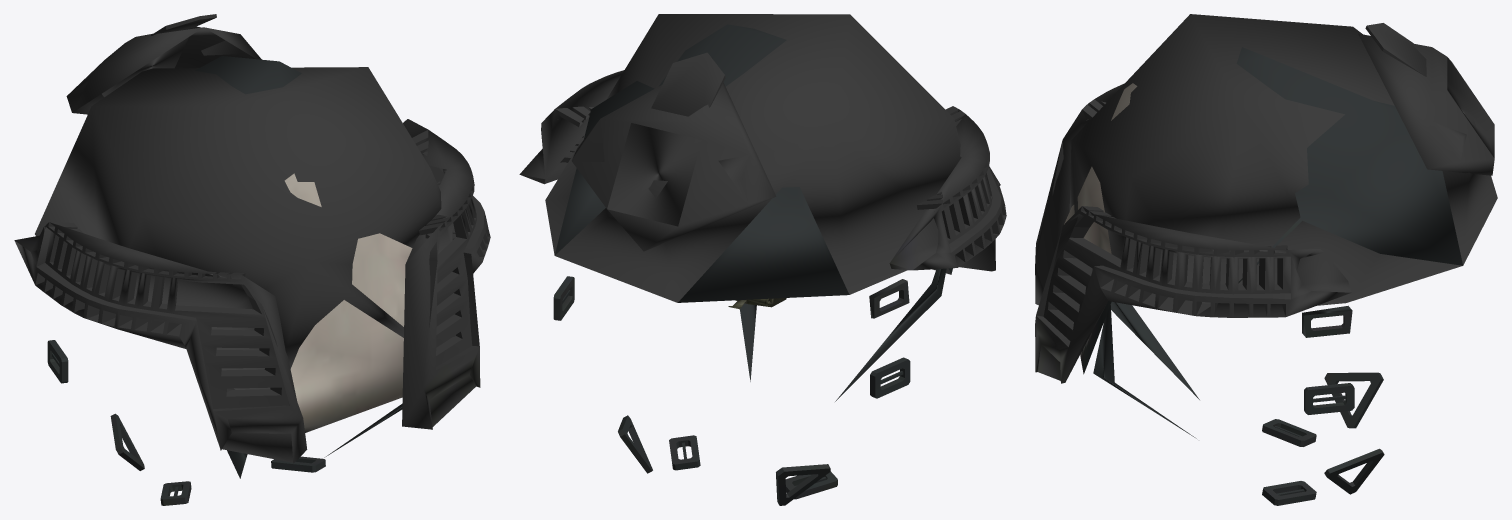
The model's file is ground-loot-v1.glb.
3 views of the same model, side by side, from view 1: azimuth 30°, elevation 25°; view 2: azimuth 150°, elevation 25°; view 3: azimuth 270°, elevation 25° (orthographic). The views are drawn at different scales.
Visible parts, largest first — view 1: MilitaryHelmet_Mdl_LP_lambert2_0; view 2: MilitaryHelmet_Mdl_LP_lambert2_0; view 3: MilitaryHelmet_Mdl_LP_lambert2_0.
Part boxes in pixels (x1,y1,x2,y2): MilitaryHelmet_Mdl_LP_lambert2_0: (14,14,490,505); MilitaryHelmet_Mdl_LP_lambert2_0: (519,14,1006,505); MilitaryHelmet_Mdl_LP_lambert2_0: (1035,14,1497,505).
Bounding box in the file's own units: 7.93 × 8.19 × 7.72.
19 materials, 18 textured.
